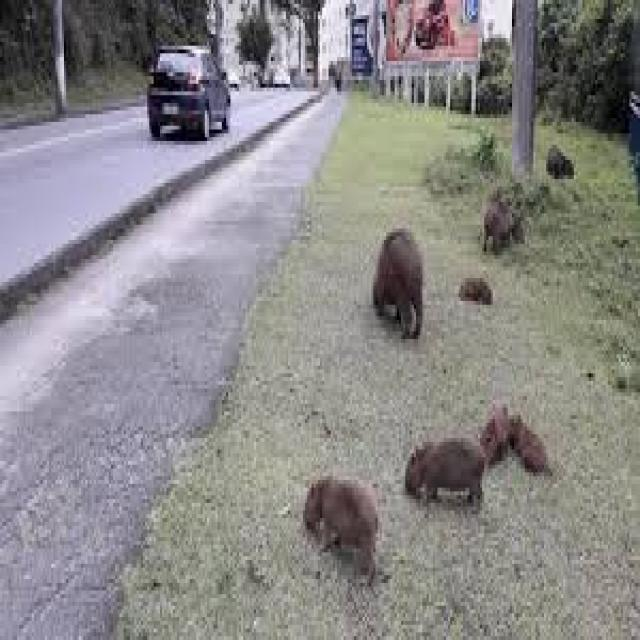capy: (300, 470, 379, 588), (404, 432, 484, 516), (370, 223, 426, 336)
